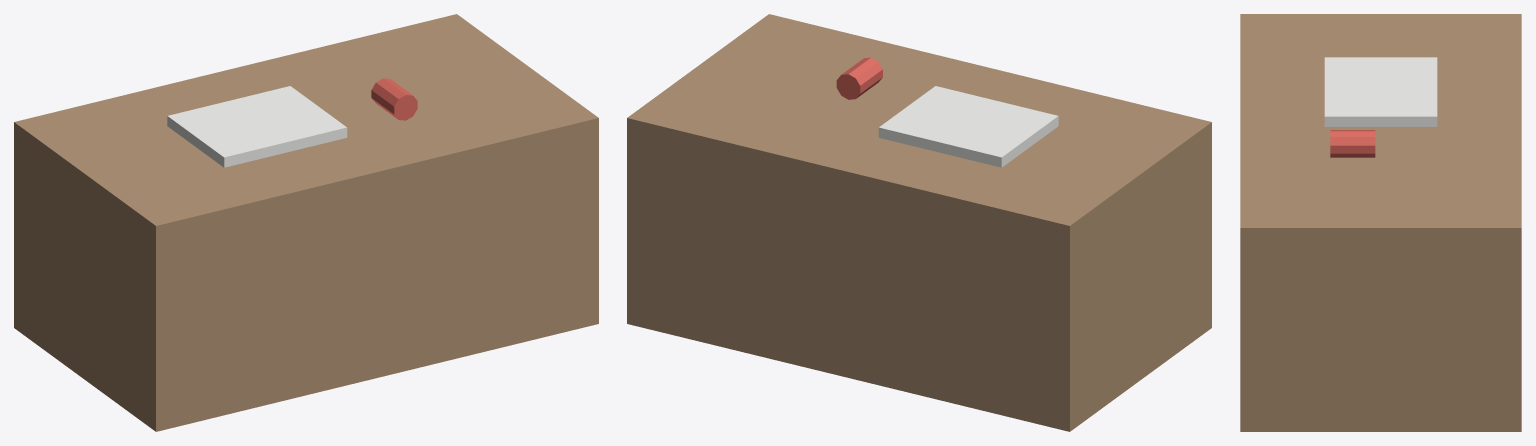
File: desk_items.glb
3 renders of one model, left to right at view 1: azimuth 30°, elevation 25°; view 2: azimuth 150°, elevation 25°; view 3: azimuth 270°, elevation 25°, orthographic.
Parts seen in each view (by area): view 1: desk, papers, mug; view 2: desk, papers, mug; view 3: desk, papers, mug.
Boxes of the visible parts, bbox=[...] form: desk: bbox=[14, 14, 598, 431]; papers: bbox=[167, 86, 347, 167]; mug: bbox=[371, 78, 417, 120]; desk: bbox=[627, 14, 1211, 431]; papers: bbox=[878, 86, 1058, 167]; mug: bbox=[836, 57, 882, 99]; desk: bbox=[1240, 14, 1521, 431]; papers: bbox=[1324, 57, 1437, 126]; mug: bbox=[1330, 130, 1375, 157].
Bounding box in the file's own units: 1.8 × 0.8997 × 1.
